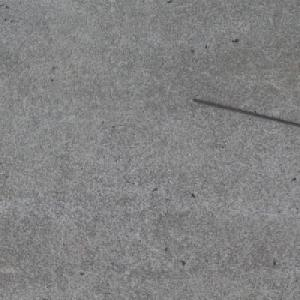LuggagePart: (190, 97, 300, 127)
